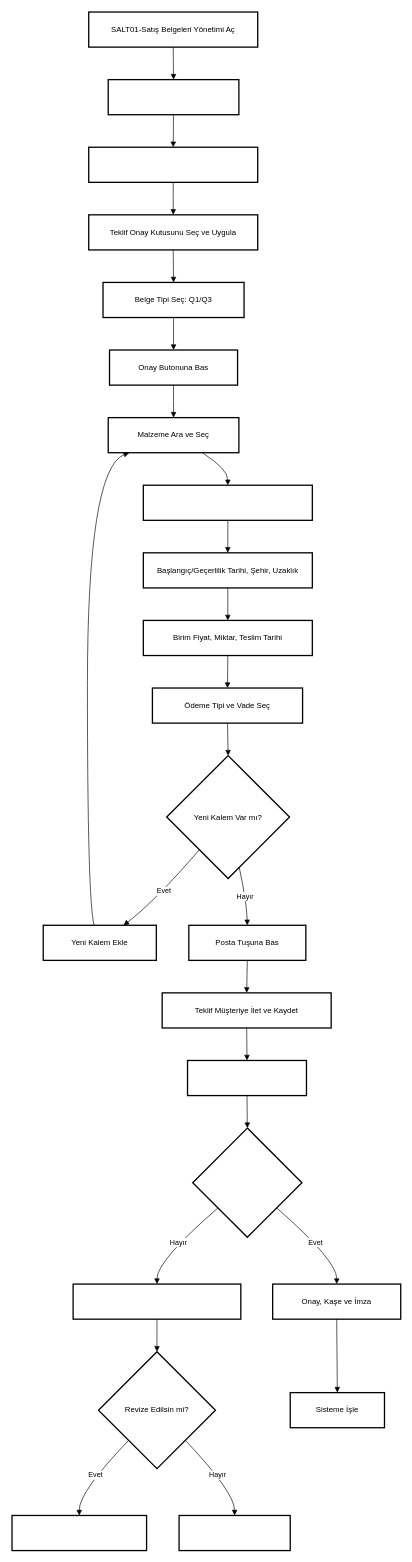
Image size: 412x1562. Some labels were removed from this diagram. Here are the shapes that lost their labels. From the top down, the centre of each, then its label:
At [173,97]: "Yeni Butonuna Tıkla".
At [173,164]: "Firma, İş Alanı, Müşteri Bilgilerini Gir".
At [227,502]: "Malzeme Bilgileri Otomatik Doldurulur".
At [247,1078]: "Müşteri İnceleme".
At [247,1182]: "Kabul Edildi mi?".
At [156,1301]: "Satış Temsilcisini Bilgilendir".
At [79,1532]: "Revize Teklif Oluştur".
At [234,1532]: "Süreç Sonlandır".
